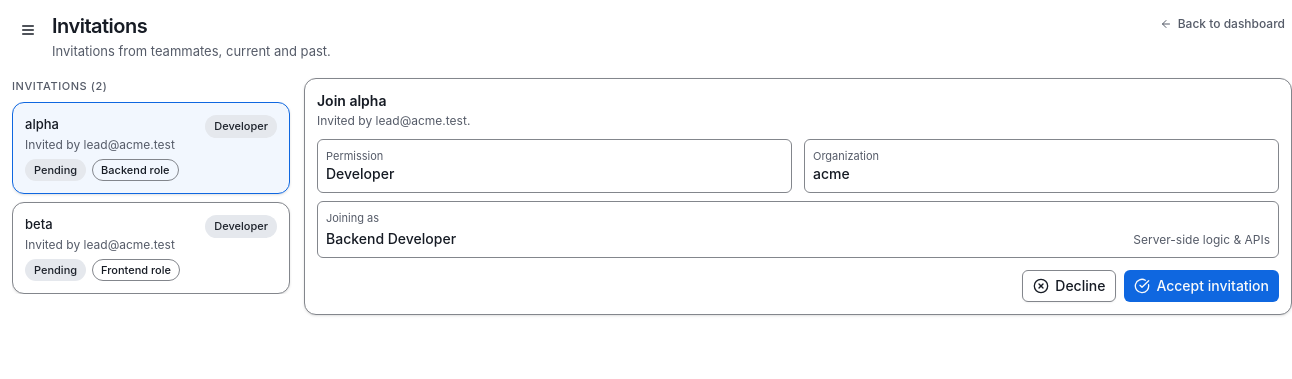
Test: InvitationsPage invitation lifecycle (#72) › reports a failed decline and clears it when another invitation is selected
This screenshot has width=1292, height=379.
Expected: the heading "Join alpha" is shown, [317,92,386,108]
Click the button "Decline": {"x": 1069, "y": 286} [1022,270,1116,302]
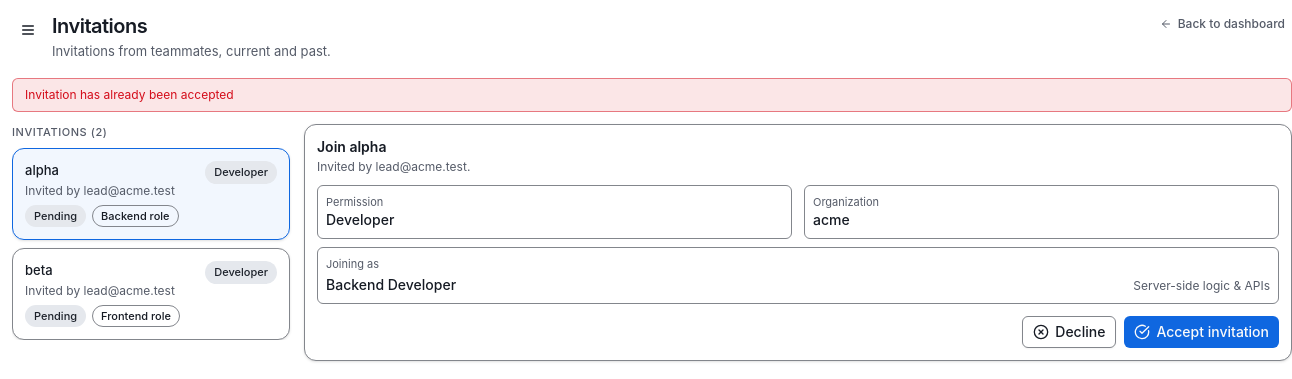
Expected: the heading "Join alpha" is shown, [317,138,386,154]
Expected: the text "Invitation has already been accepted" is shown, [12,78,1291,112]
#14's rule applies to this operation too.
Click the text "beta": {"x": 39, "y": 270} [25,262,52,278]
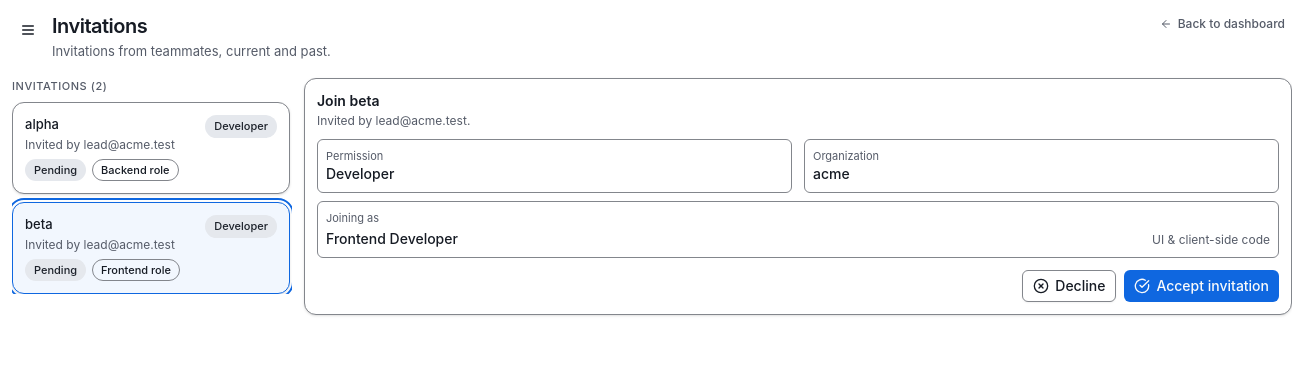
Expected: the text "already been accepted" is gone
